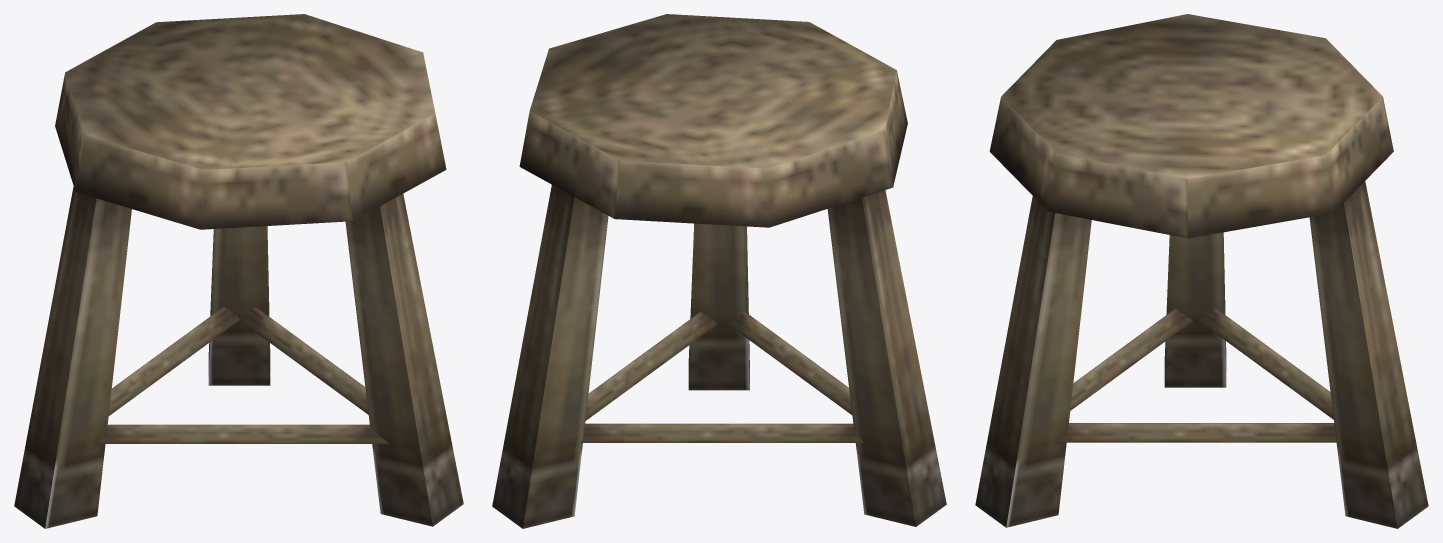
Rendered from OZ_24_ta_chaer01A.glb.
3 renders of one model, left to right at view 1: azimuth 30°, elevation 25°; view 2: azimuth 150°, elevation 25°; view 3: azimuth 270°, elevation 25°, orthographic.
Parts seen in each view (by area): view 1: OM_24_ta_chaer01A; view 2: OM_24_ta_chaer01A; view 3: OM_24_ta_chaer01A.
Part boxes in pixels (<box>): OM_24_ta_chaer01A: <box>14,14,463,528</box>; OM_24_ta_chaer01A: <box>492,14,946,528</box>; OM_24_ta_chaer01A: <box>975,14,1428,528</box>.
Size of the model in its own units: 0.4094 by 0.3663 by 0.4034.
1 material, 1 textured.
